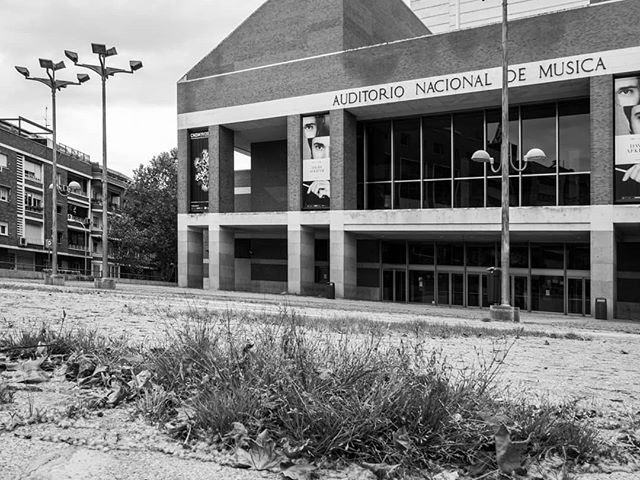building: (181, 1, 640, 321), (1, 130, 137, 278)
light pole: (69, 43, 146, 286), (26, 56, 83, 285)
